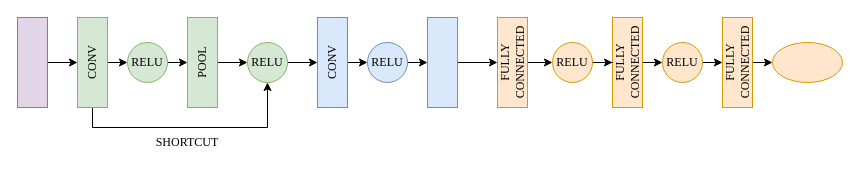
This 860x175 diagram has some shape labels left out. The shapes that lost their labels are listed below. From the top down, each one's centre as x and y in pixels, then its label:
At point 32,62: "INPUT".
At point 442,62: "FLATTEN".
At point 807,62: "SOFTMAX".
